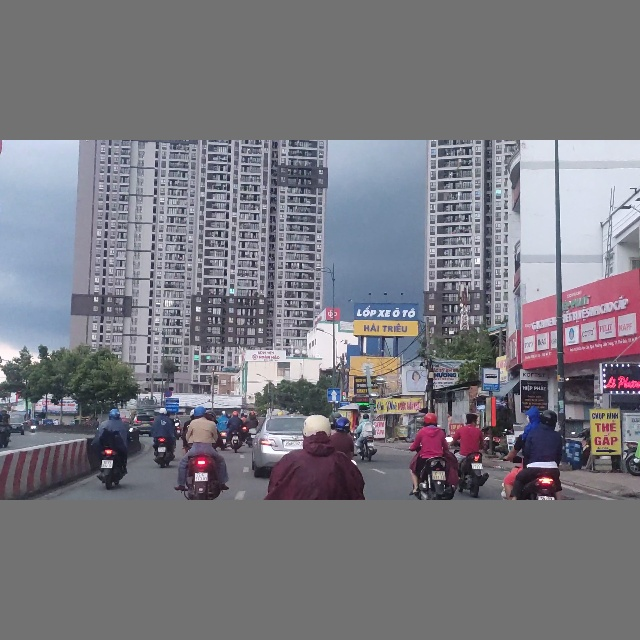I.407a: (327, 388, 341, 402)
I.434a: (482, 368, 500, 391)
